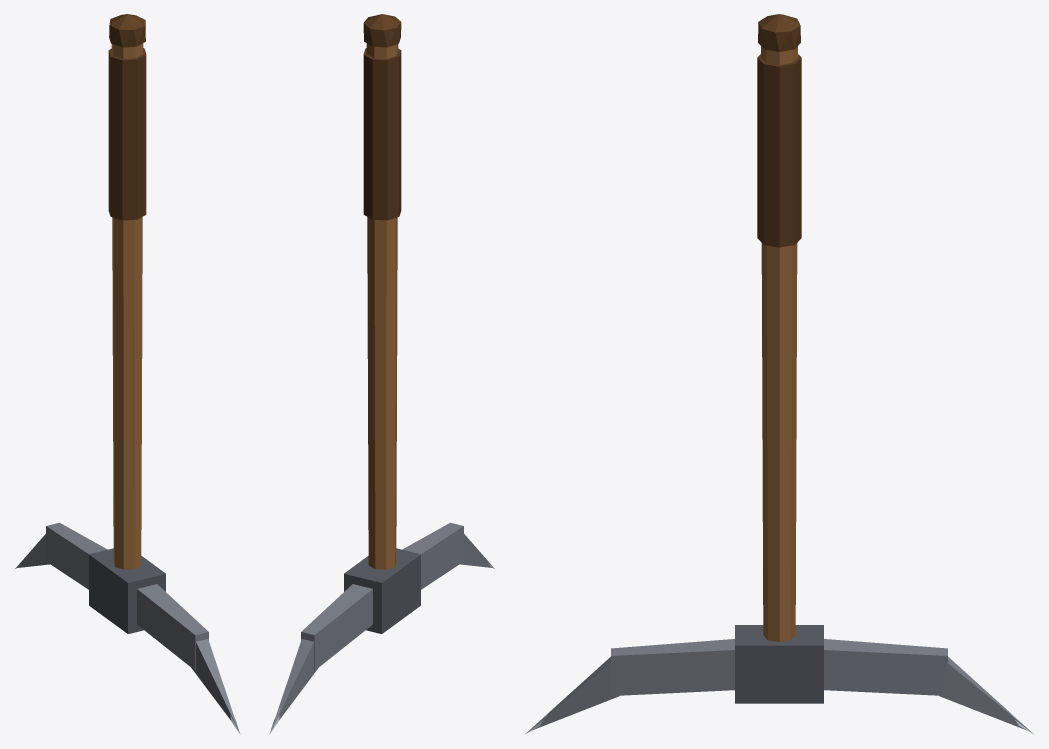
Rendered from held_iron_pickaxe.glb.
3 renders of one model, left to right at view 1: azimuth 30°, elevation 25°; view 2: azimuth 150°, elevation 25°; view 3: azimuth 270°, elevation 25°, orthographic. The views are drawn at different scales.
Parts seen in each view (by area): view 1: held_iron_pickaxe; view 2: held_iron_pickaxe; view 3: held_iron_pickaxe.
Part boxes in pixels (x1,y1,x2,y2): held_iron_pickaxe: [15, 14, 240, 734]; held_iron_pickaxe: [269, 14, 494, 734]; held_iron_pickaxe: [525, 14, 1033, 734].
Bounding box in the file's own units: 0.056 × 0.897 × 0.576.
